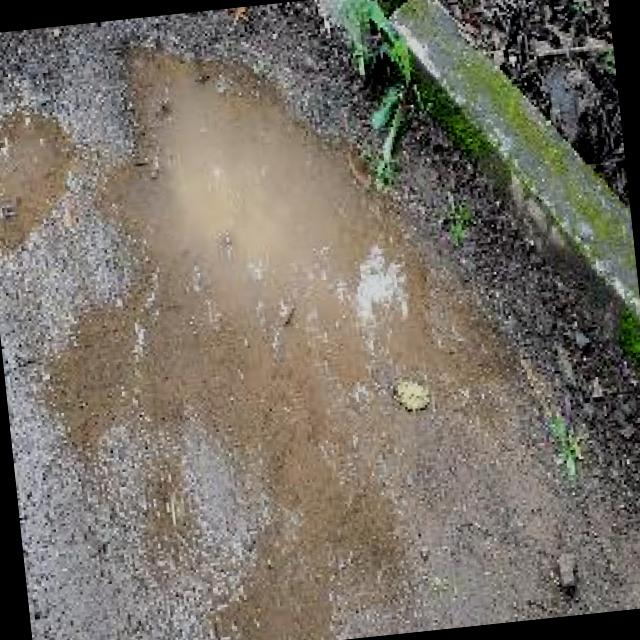waterlogging: (144, 42, 358, 290)
